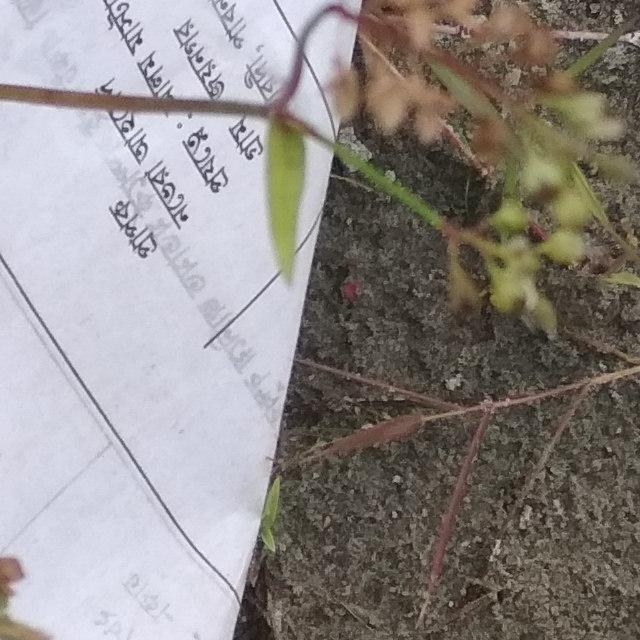paper: (0, 0, 564, 640)
